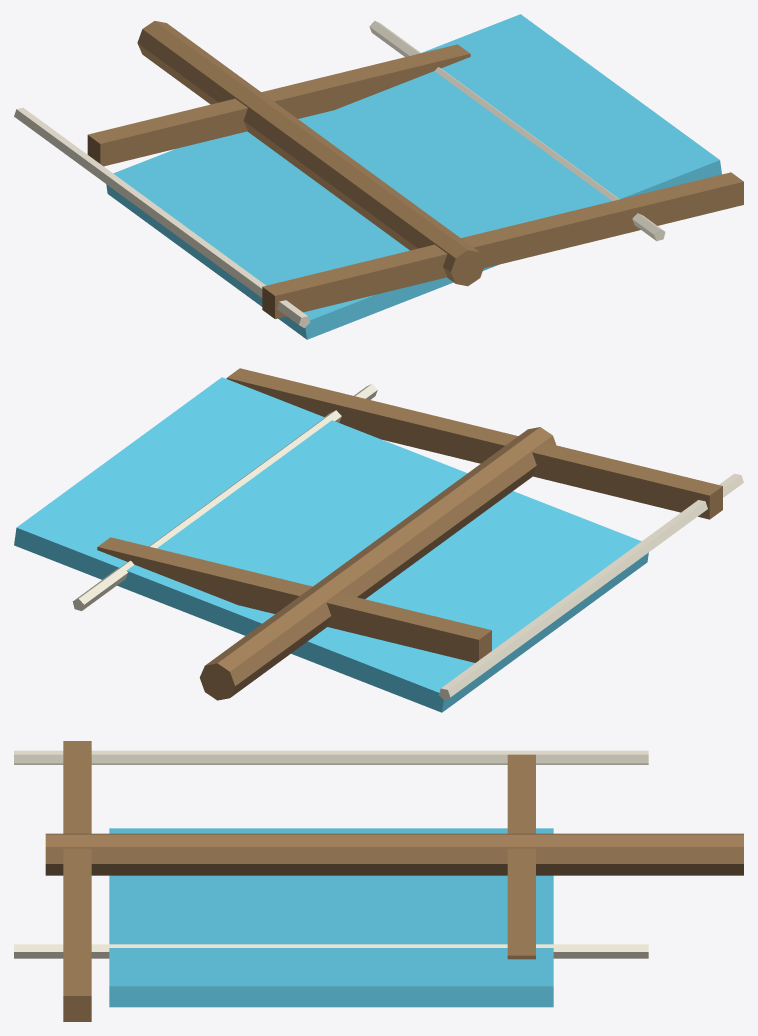
Rendered from 07_skyship_rigging.glb.
3 views of the same model, one above another, from view 1: azimuth 30°, elevation 25°; view 2: azimuth 150°, elevation 25°; view 3: azimuth 270°, elevation 25° (orthographic). The views are drawn at different scales.
Parts seen in each view (by area): view 1: sail_panel, spar_top, mast, spar_bottom, rigging_line_l, rigging_line_r; view 2: sail_panel, mast, spar_top, spar_bottom, rigging_line_l, rigging_line_r; view 3: sail_panel, mast, rigging_line_l, spar_top, spar_bottom, rigging_line_r.
Boxes of the visible parts, box(x1,y1,x2,y2) form: sail_panel: box(106, 14, 721, 339); spar_top: box(262, 172, 743, 319); mast: box(137, 21, 484, 286); spar_bottom: box(87, 44, 470, 166); rigging_line_l: box(14, 107, 309, 327); rigging_line_r: box(369, 21, 665, 241); sail_panel: box(14, 377, 648, 712); mast: box(199, 427, 556, 700); spar_top: box(226, 368, 722, 519); spar_bottom: box(97, 537, 491, 662); rigging_line_l: box(439, 473, 743, 700); rigging_line_r: box(72, 384, 377, 610); sail_panel: box(109, 828, 553, 1007); mast: box(45, 833, 743, 875); rigging_line_l: box(14, 750, 648, 764); spar_top: box(63, 741, 91, 1021); spar_bottom: box(507, 754, 535, 959); rigging_line_r: box(14, 944, 648, 958).
Size of the model in its own units: 2.66 by 0.4283 by 3.22.
